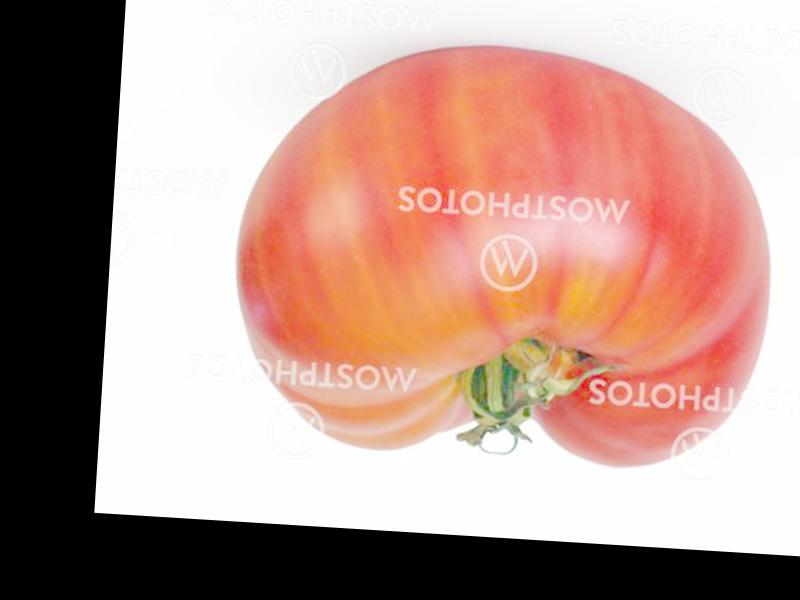Tomato: (225, 33, 781, 476)
